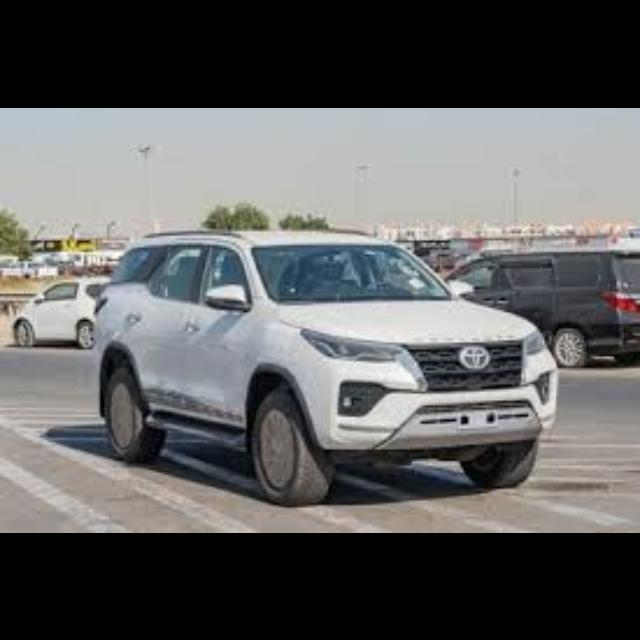number-plate: (442, 409, 522, 438)
vehicles: (88, 226, 556, 501), (449, 247, 638, 366), (12, 277, 110, 347)
